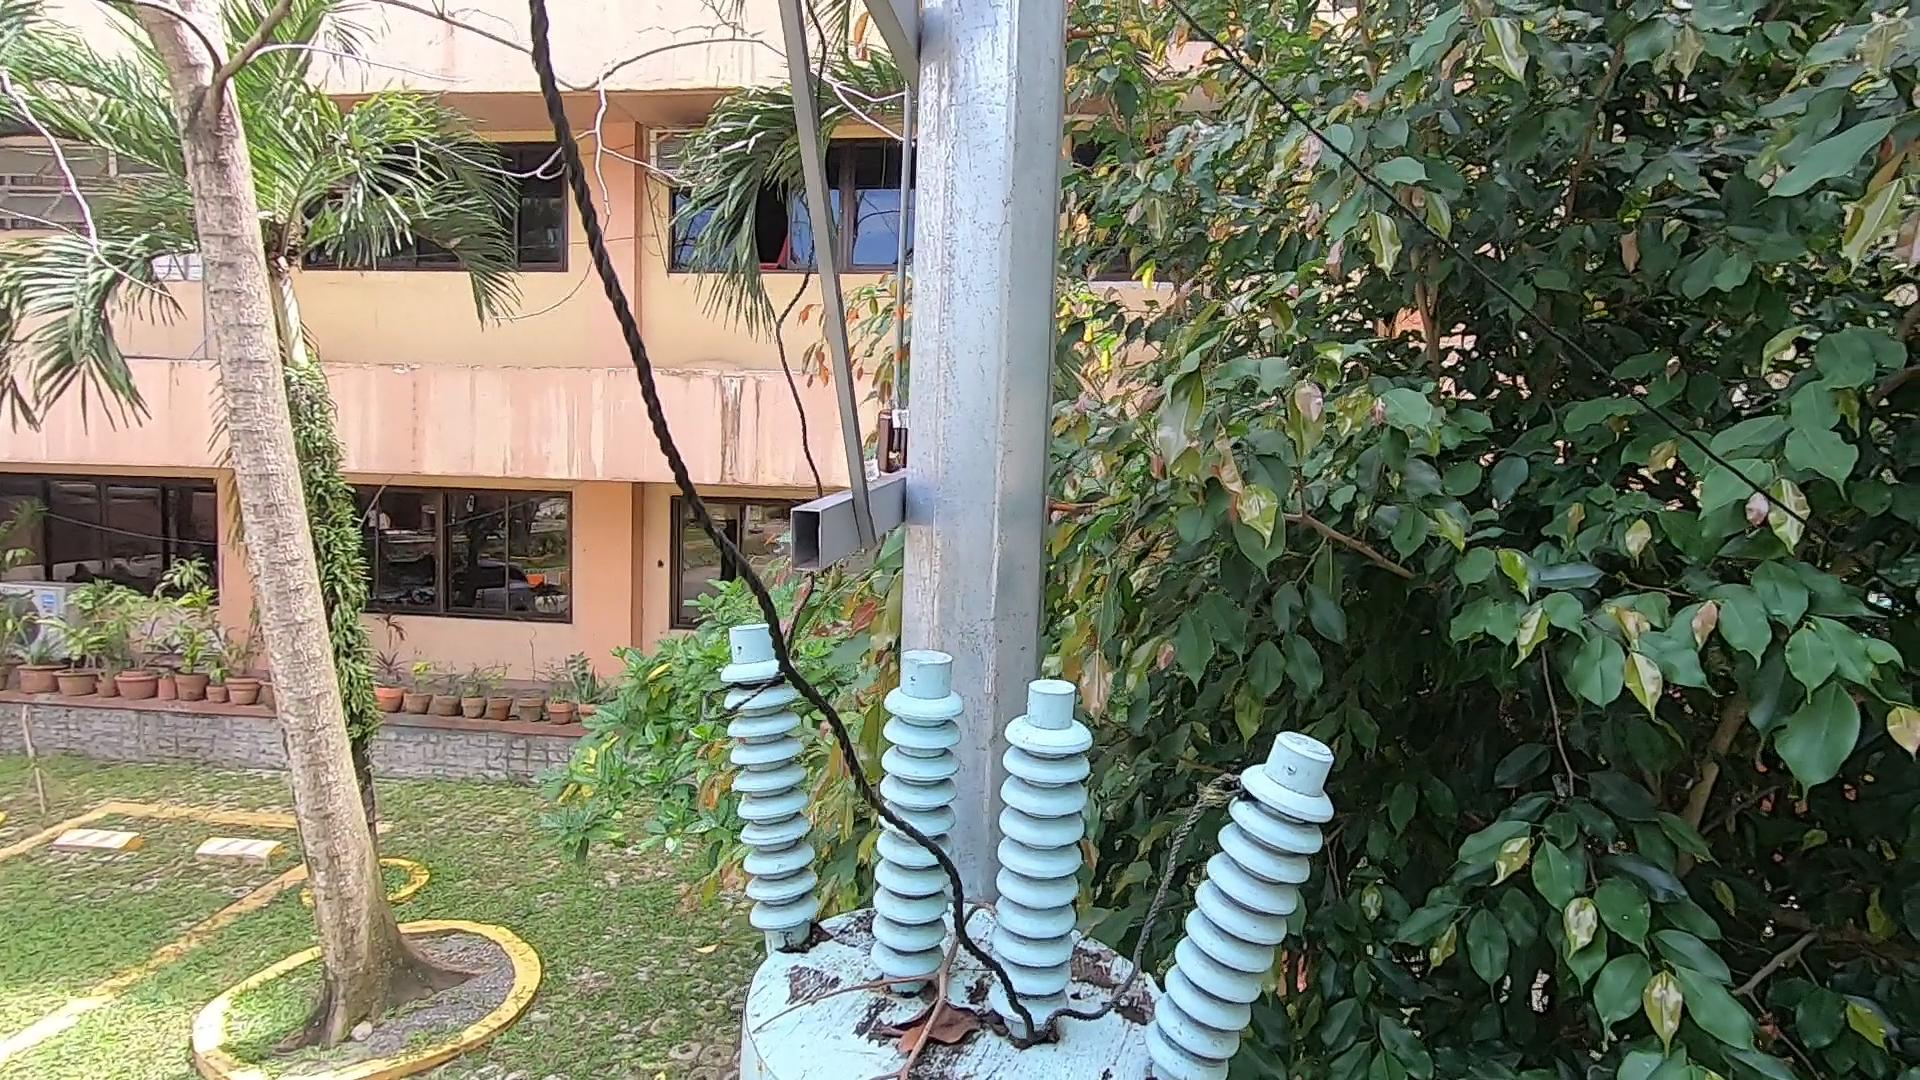leaf: (1048, 932, 1158, 1025), (877, 986, 997, 1055), (770, 914, 844, 960)
tree branch: (860, 868, 994, 1080)
